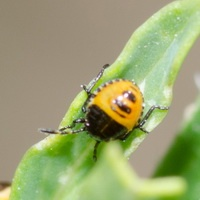insect: (39, 64, 167, 160)
